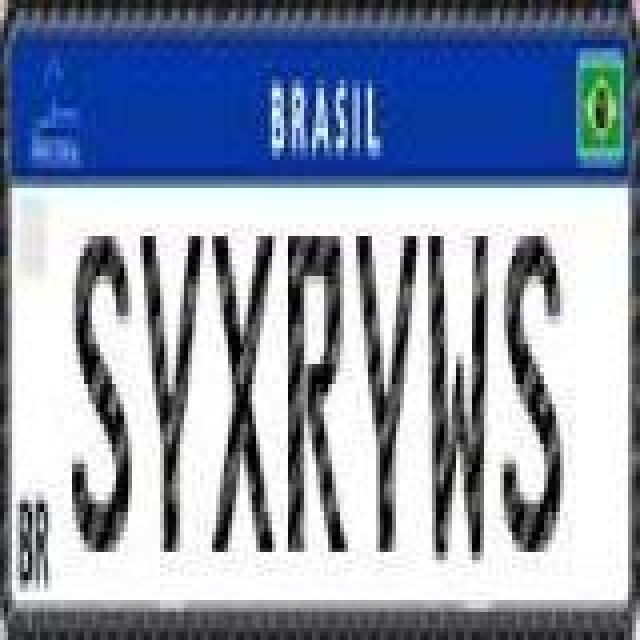R: (284, 230, 348, 554)
S: (72, 224, 136, 560), (500, 230, 564, 554)
W: (424, 232, 488, 568)
X: (210, 230, 278, 554)
Y: (140, 224, 204, 560), (356, 230, 420, 554)
